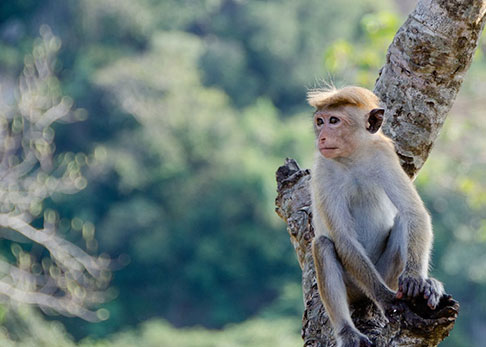Monkey: (284, 72, 455, 334)
